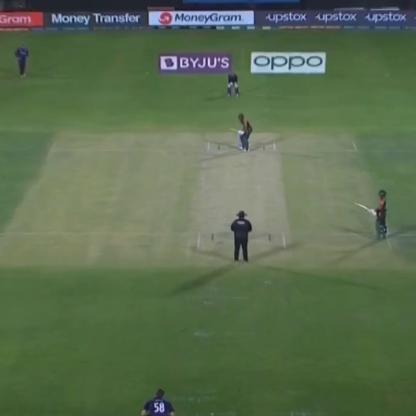bat: (350, 196, 380, 218), (225, 120, 243, 140)
pitch: (195, 139, 285, 253)
